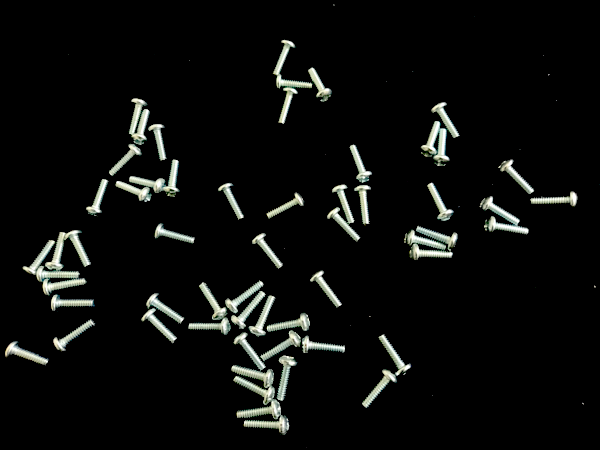shortscrew: (53, 318, 97, 354), (361, 368, 398, 410), (378, 334, 413, 377), (498, 158, 536, 195), (309, 270, 344, 310), (140, 309, 178, 345), (232, 331, 267, 370), (233, 375, 275, 407), (250, 233, 285, 271), (226, 280, 265, 314), (231, 291, 265, 330), (198, 282, 229, 323), (261, 331, 302, 362), (479, 196, 521, 226), (4, 341, 50, 368), (431, 101, 462, 141), (327, 207, 361, 243), (146, 293, 185, 324), (23, 240, 54, 279), (249, 296, 276, 338), (64, 230, 93, 269), (266, 192, 306, 220), (417, 225, 459, 251), (109, 144, 142, 177), (218, 182, 245, 222), (428, 183, 454, 223), (231, 365, 274, 389), (267, 312, 311, 335), (277, 356, 299, 402), (271, 40, 297, 78), (244, 416, 290, 437), (530, 191, 579, 210), (154, 224, 196, 246), (237, 400, 281, 421), (484, 217, 530, 237), (350, 144, 373, 184), (331, 185, 354, 225), (405, 230, 447, 251), (309, 67, 334, 102), (50, 295, 96, 314), (114, 181, 152, 204), (188, 317, 231, 337), (86, 179, 108, 218), (302, 336, 347, 355), (419, 120, 441, 158), (409, 244, 453, 263), (276, 89, 298, 127), (46, 232, 68, 270), (36, 266, 82, 284), (43, 278, 87, 296), (148, 123, 167, 162), (128, 98, 148, 135), (354, 185, 372, 226), (129, 177, 167, 196), (131, 109, 150, 147), (432, 128, 450, 168), (163, 160, 181, 199), (276, 75, 314, 92)
